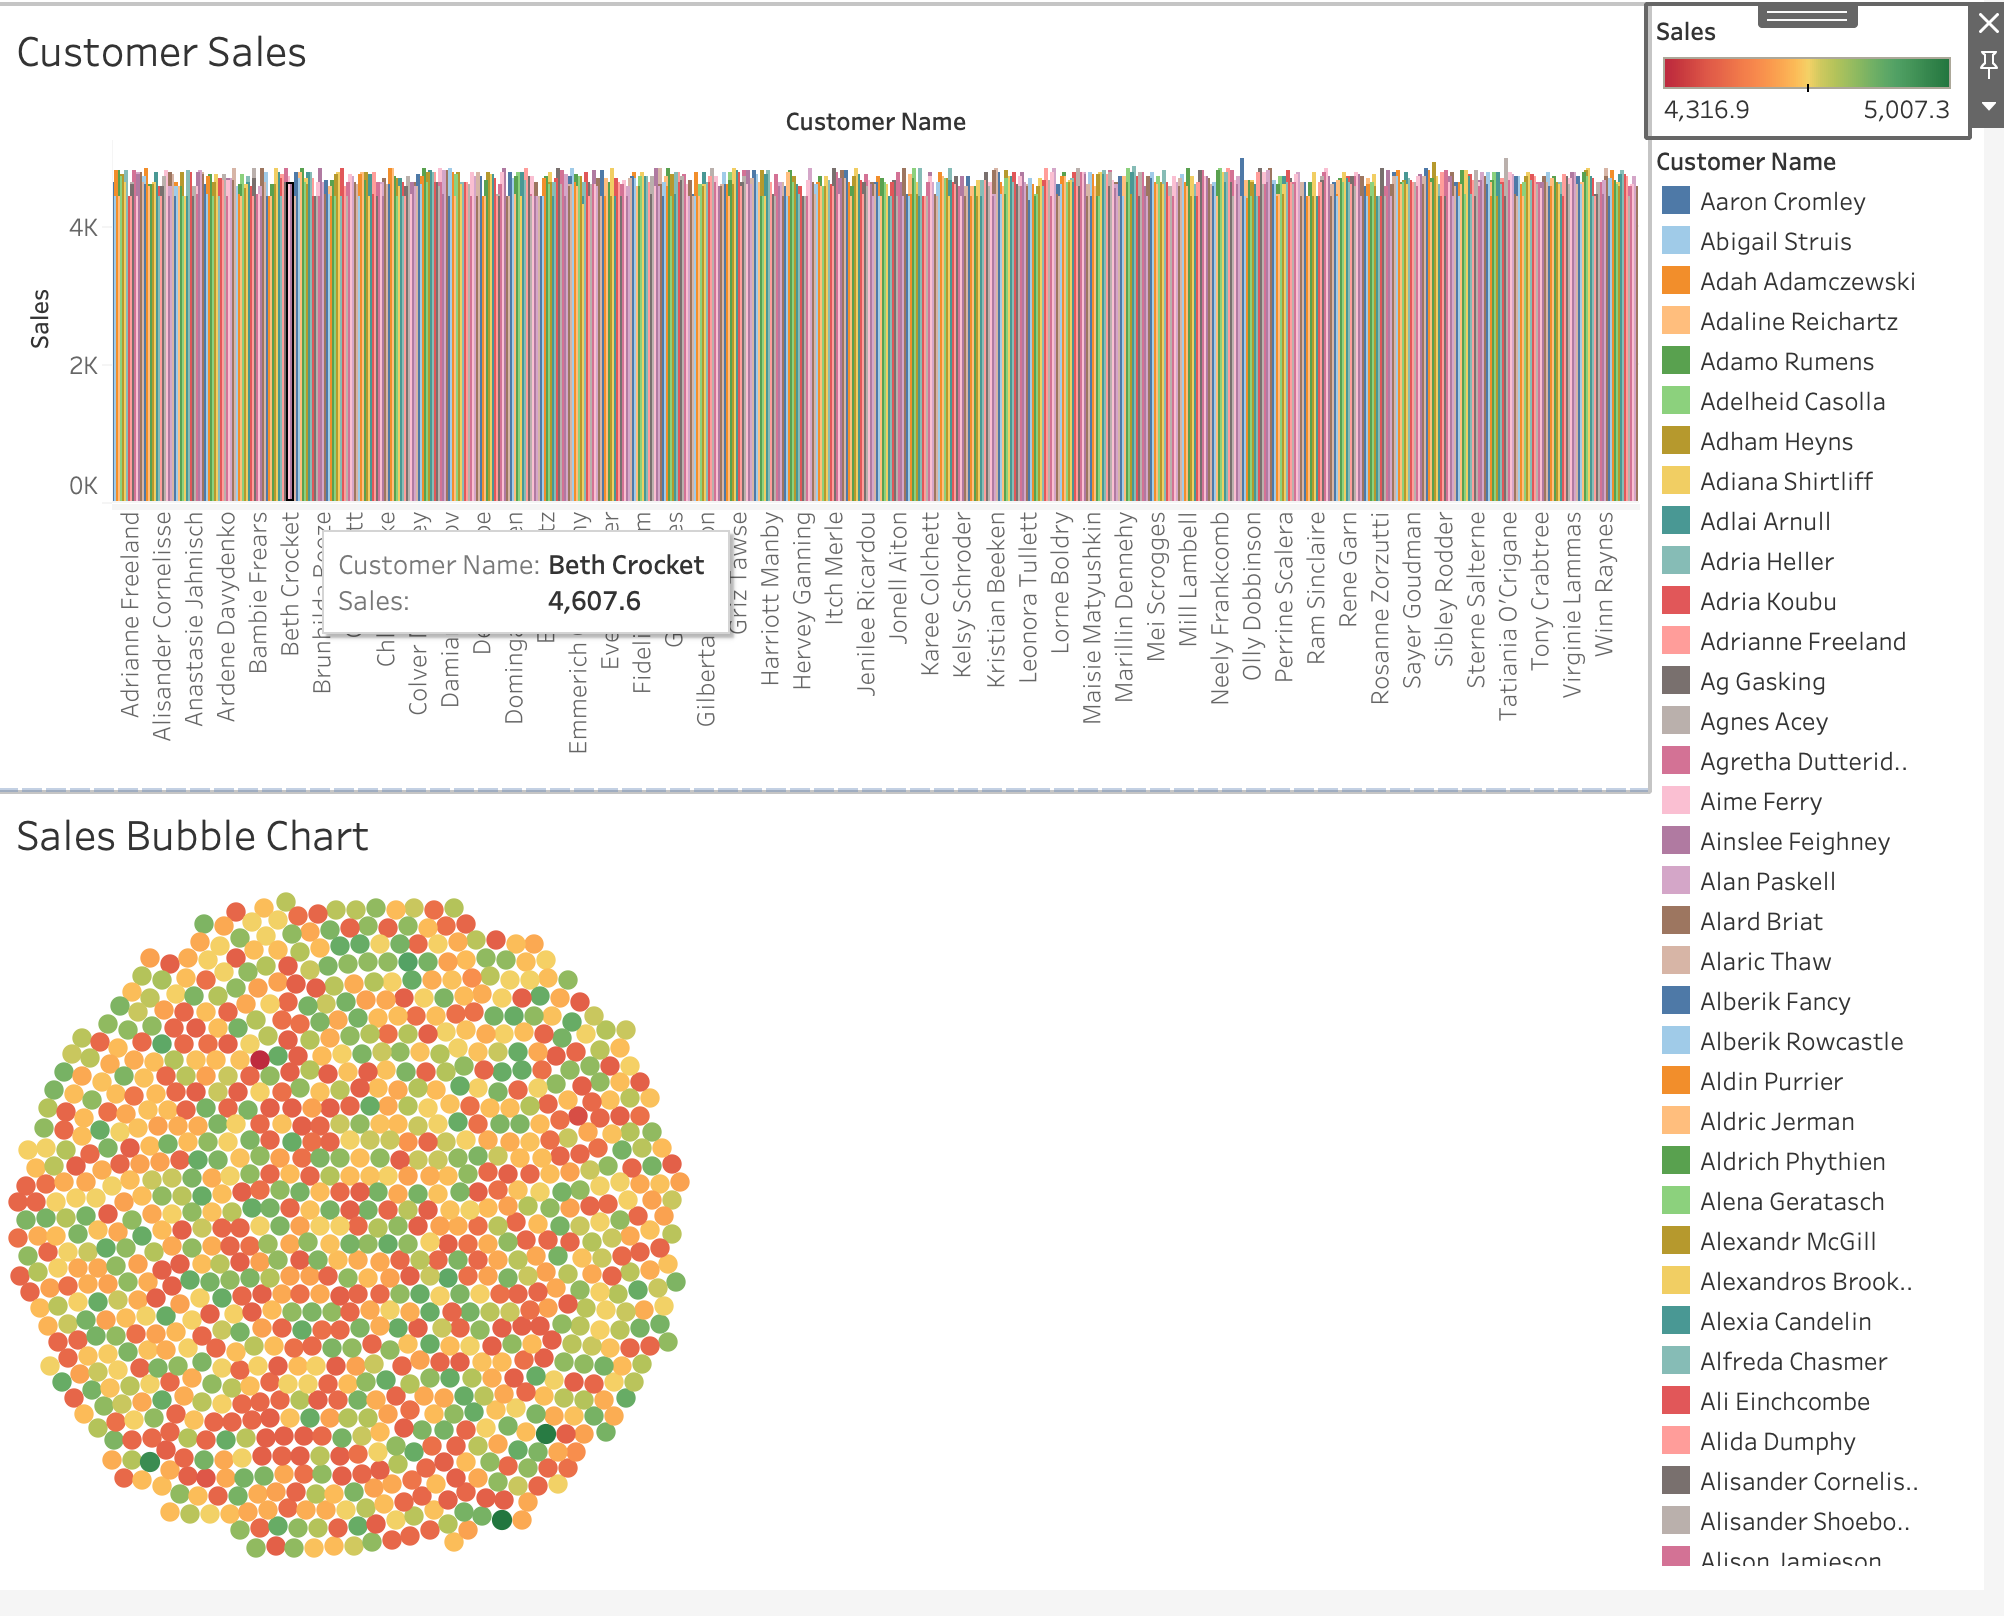

The page's visual inventory and layout, read from the dashboard file:
{"tool":"tableau","page":{"name":"Sales Dashboard (Bubble & Bar)","canvas":[1000,800],"ordinal":0},"visuals":[{"type":"worksheet","title":"Customer Sales","mark":"Automatic","rows":["Sales"],"cols":["Customer Name"],"box":[8,8,824,392]},{"type":"legend","title":"Sales Bubble Chart","param":"[federated.1hnnf7b1o83z29173610117nijw8].[sum:Sales:qk]","box":[832,8,160,65]},{"type":"legend","title":"Customer Sales","param":"[federated.1hnnf7b1o83z29173610117nijw8].[none:Customer Name:nk]","box":[832,73,160,719]},{"type":"worksheet","title":"Sales Bubble Chart","mark":"Circle","box":[8,400,824,392]}]}

Visuals, with their boxes in screenshot pixels (x1, y1, x2, y2), scaled from the page's 1000x800 canvas onto the 2004x1616 screenshot:
"Customer Sales" worksheet: <bbox>16, 16, 1667, 808</bbox>
"Sales Bubble Chart" legend: <bbox>1667, 16, 1988, 147</bbox>
"Customer Sales" legend: <bbox>1667, 147, 1988, 1600</bbox>
"Sales Bubble Chart" worksheet (Circle marks): <bbox>16, 808, 1667, 1600</bbox>
